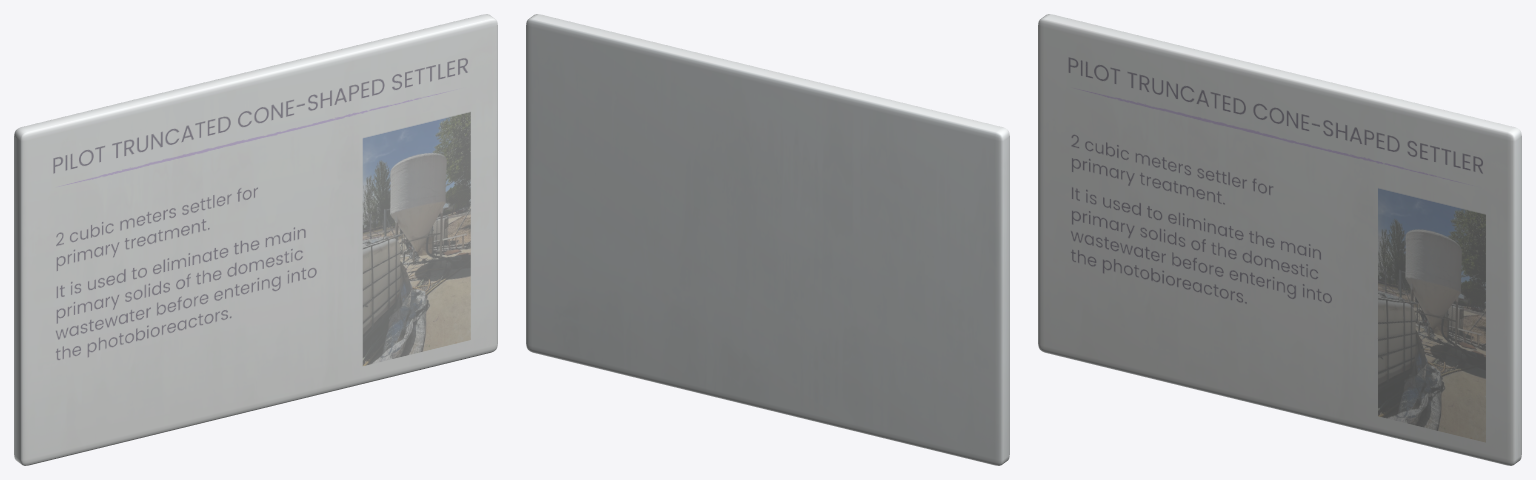
The model's file is Cartel_PTCSS_B.glb.
The picture shows the model from 3 angles, left to right: view 1: azimuth 30°, elevation 25°; view 2: azimuth 150°, elevation 25°; view 3: azimuth 330°, elevation 25°; orthographic projection.
Parts seen in each view (by area): view 1: Box011; view 2: Box011; view 3: Box011.
Boxes of the visible parts, left/top/right/bottom form: Box011: left=14, top=14, right=497, bottom=465; Box011: left=526, top=14, right=1009, bottom=465; Box011: left=1038, top=14, right=1521, bottom=465.
Bounding box in the file's own units: 1.1 × 0.7335 × 0.0348.
Materials: 1 (1 with a texture image).
